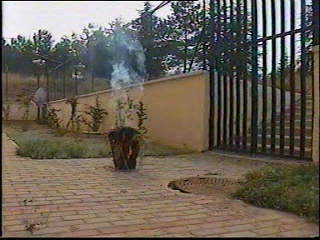smoke: (101, 26, 148, 102)
